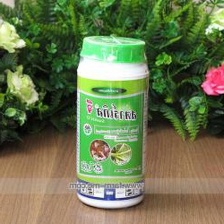insecticide: (71, 32, 151, 211)
